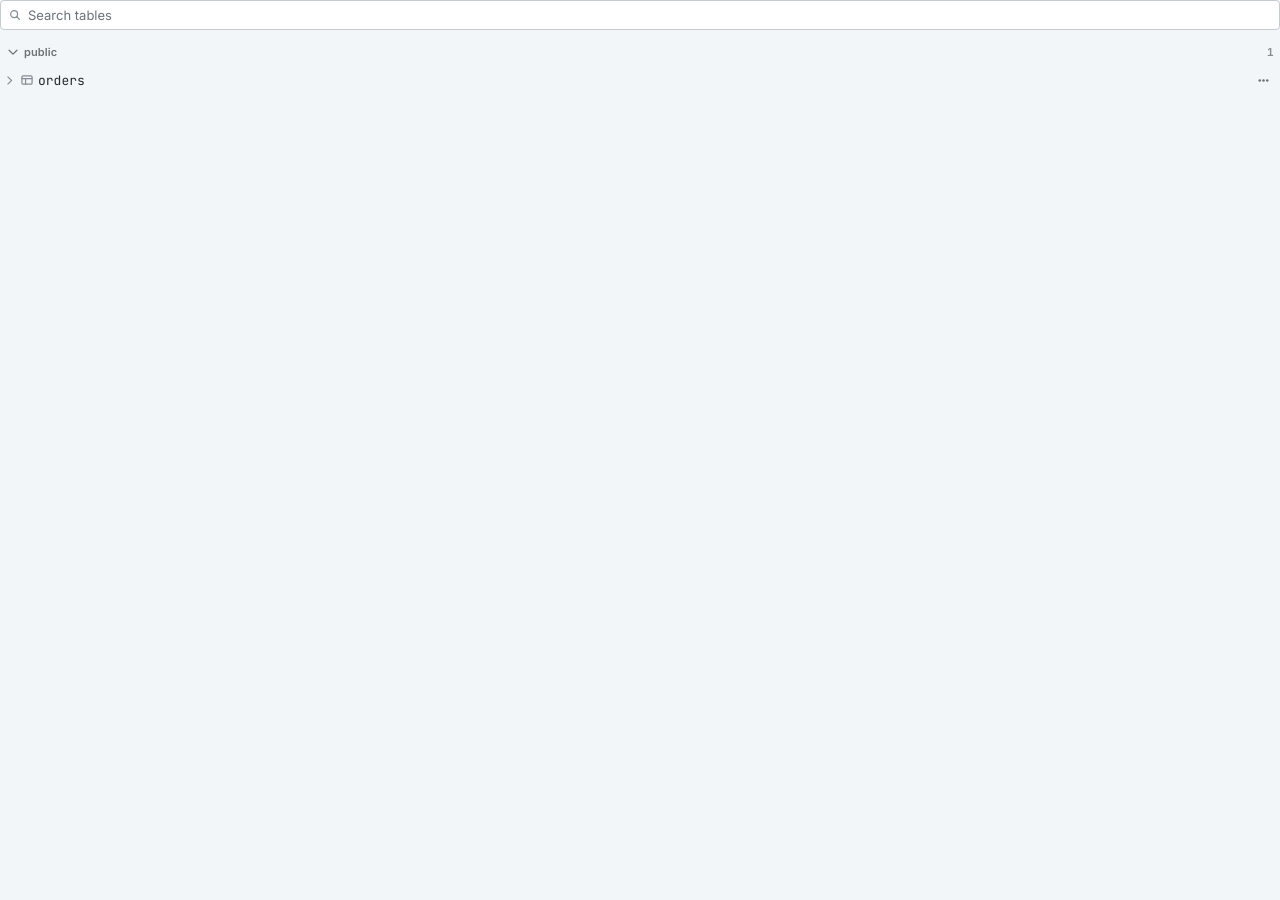
TableList › shows a generic DDL error when the rejection has no message
The width and height of the screenshot is (1280, 900).
Click the button named "Table actions".
click(1263, 80)  # box [1250, 67, 1276, 93]
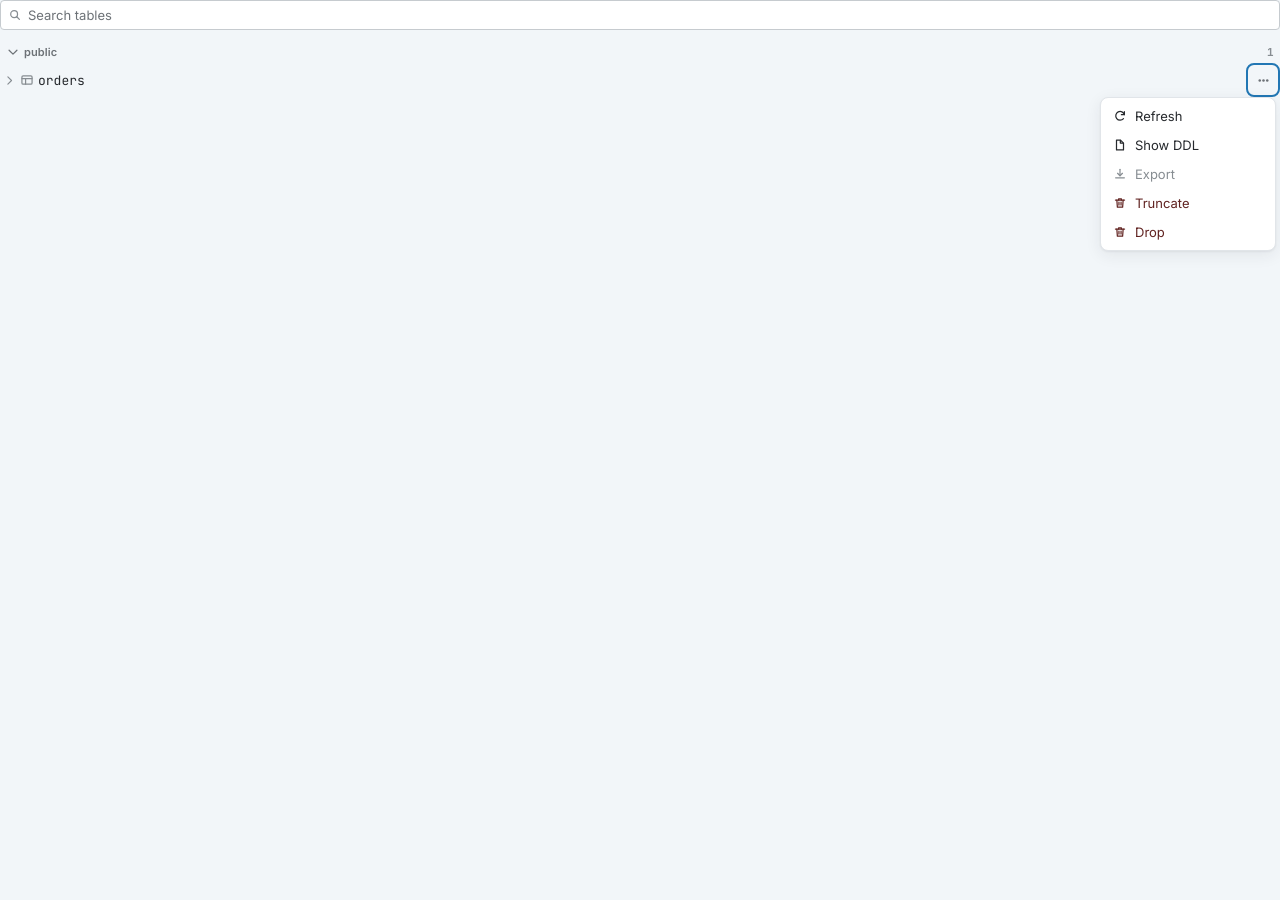
Click the menu item "Show DDL".
click(1188, 145)  # box [1105, 131, 1271, 159]
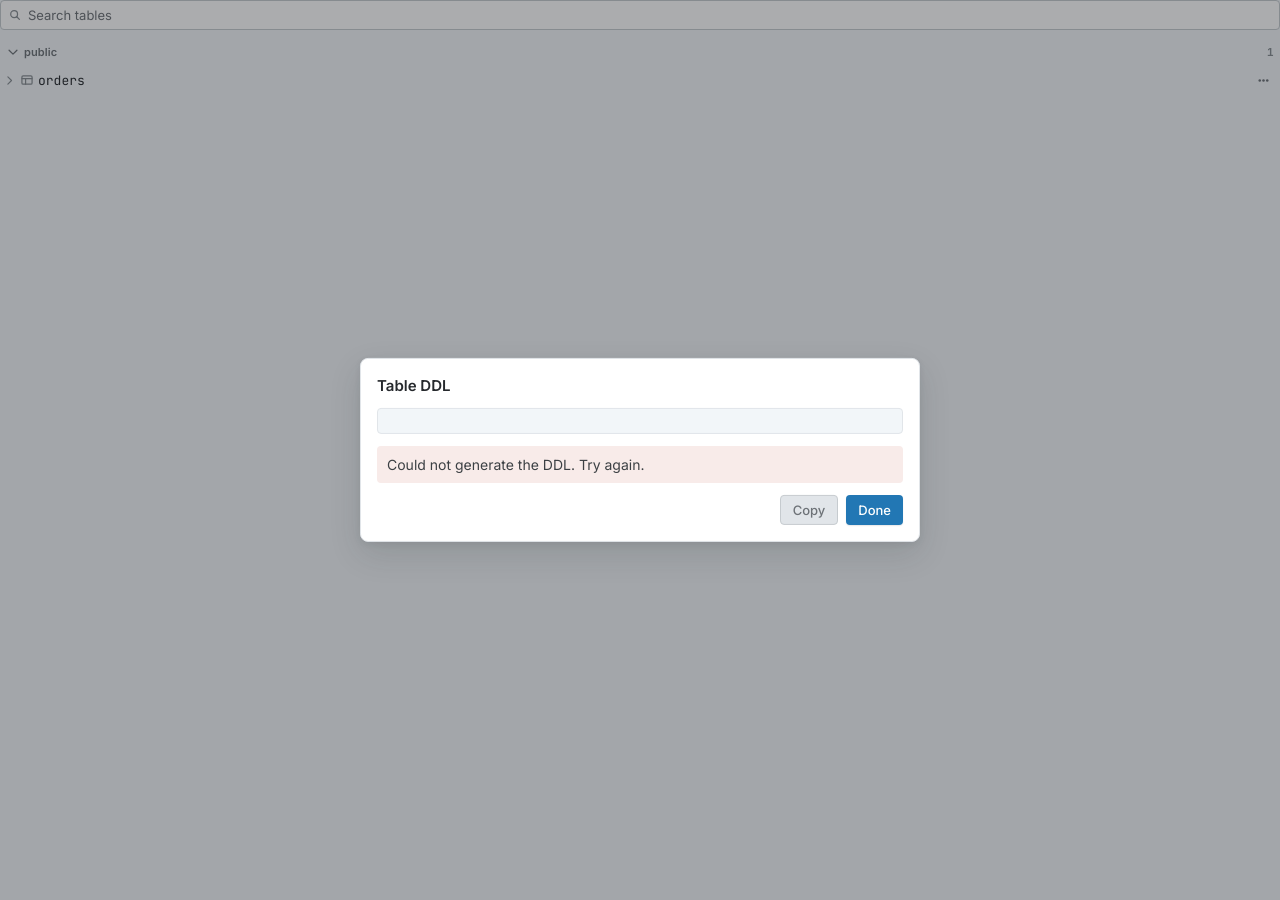
Expected: the text "Could not generate the DDL. Try again." is shown, [377, 446, 903, 483]
